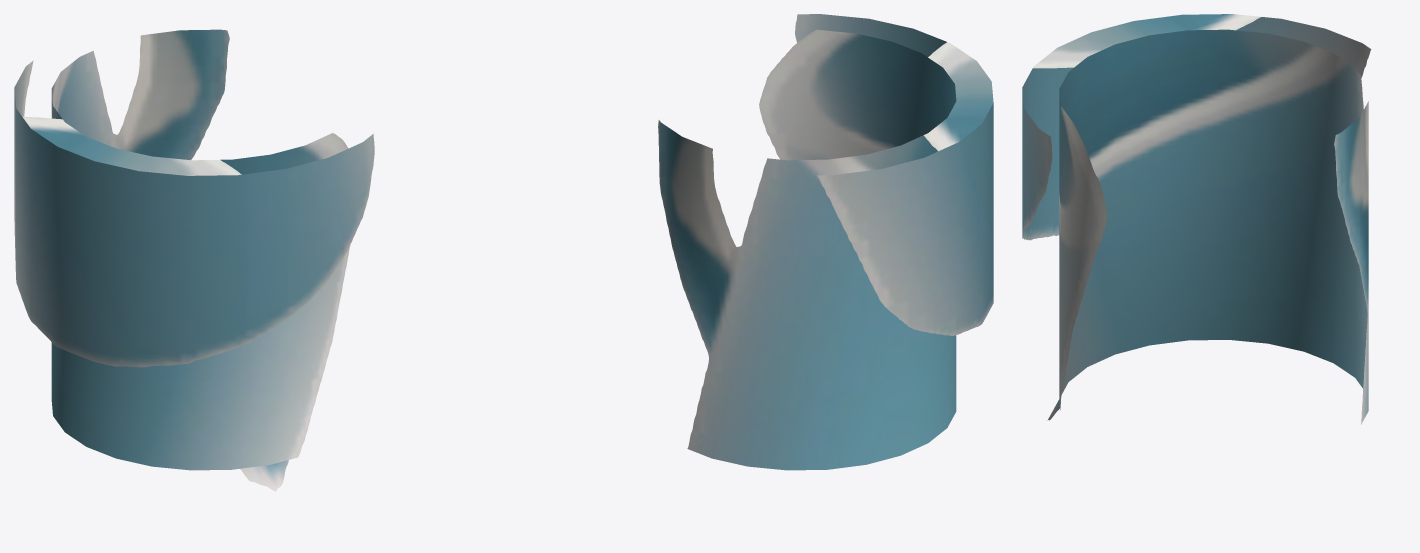
File: cup.fbx
3 renders of one model, left to right at view 1: azimuth 30°, elevation 25°; view 2: azimuth 150°, elevation 25°; view 3: azimuth 270°, elevation 25°, orthographic.
Visible parts, largest first — view 1: cup; view 2: cup; view 3: cup.
Boxes of the visible parts, box(x1,y1,x2,y2) form: cup: box(14, 29, 374, 491); cup: box(658, 14, 993, 470); cup: box(1022, 14, 1371, 424).
Size of the model in its own units: 0.1583 by 0.1259 by 0.118.
